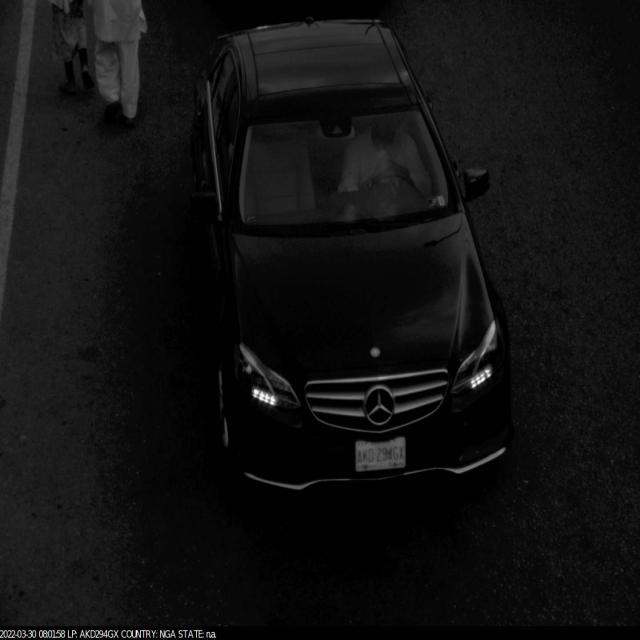windshield: (228, 91, 467, 244)
